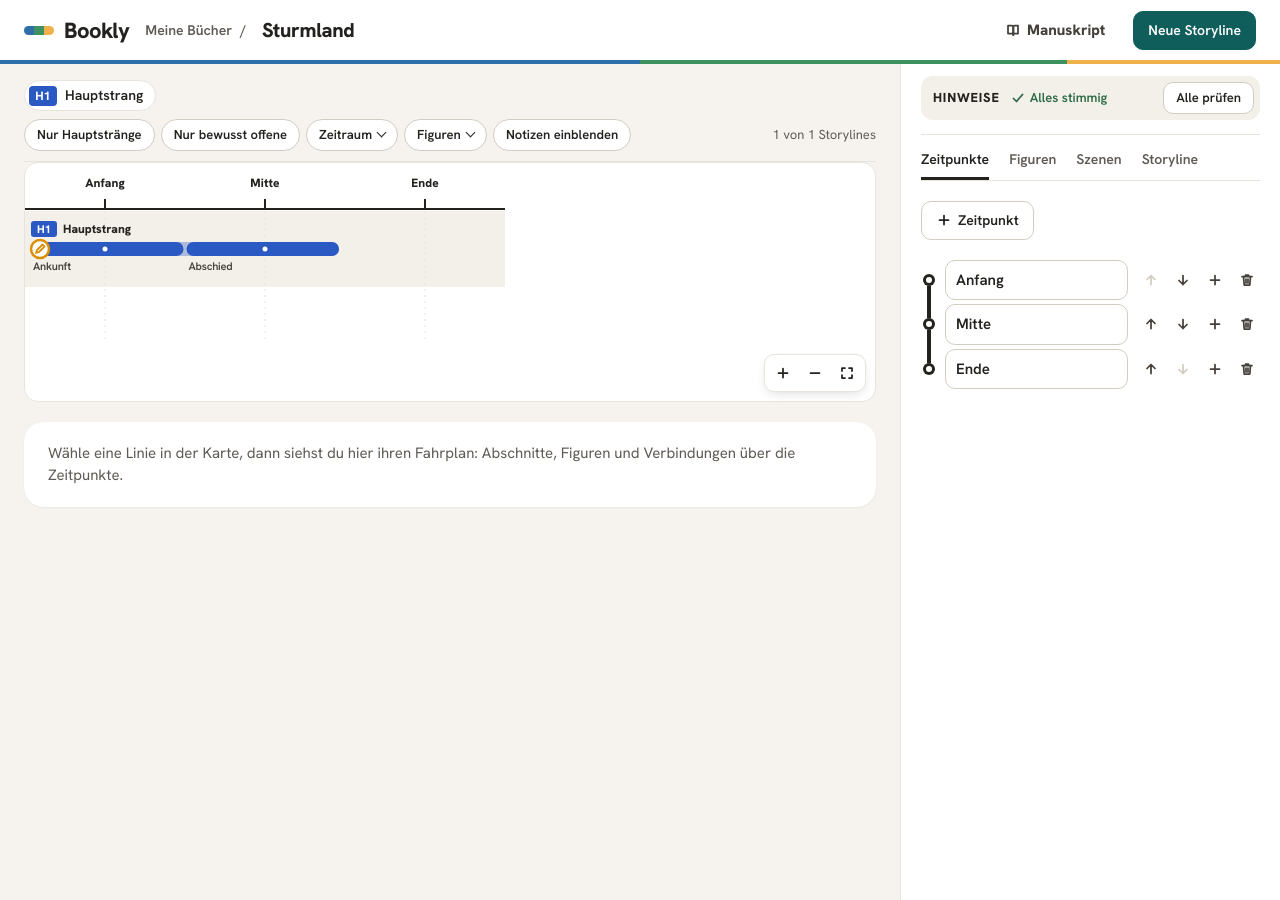
ScenePanel › shows a guiding empty state and creates a scene
Click the tab "Szenen": (1099, 159) [1076,138,1122,180]
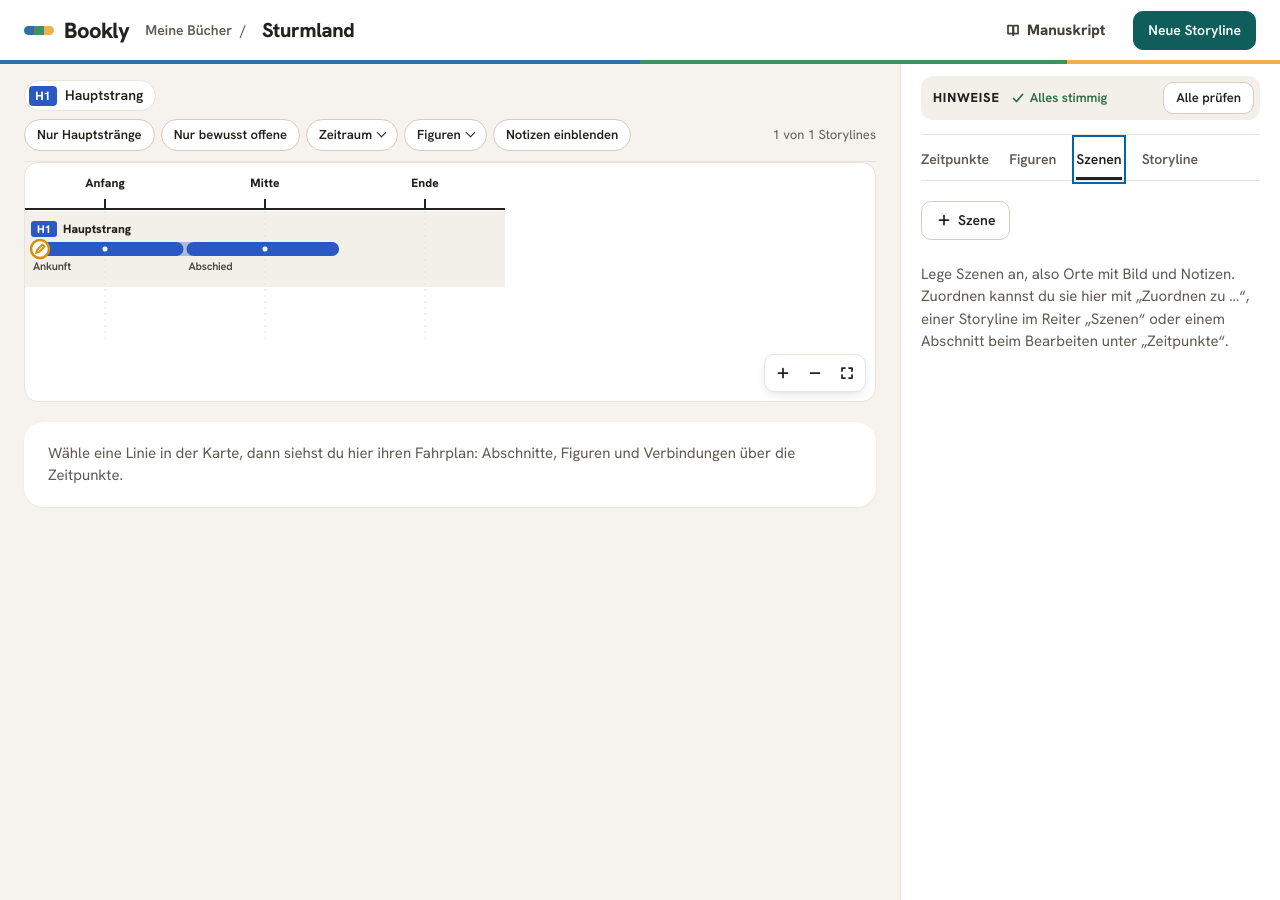
Expected: the text "Lege Szenen an" is shown, [921,264,1250,351]
Click the button "Szene": (966, 220) [921,200,1010,240]
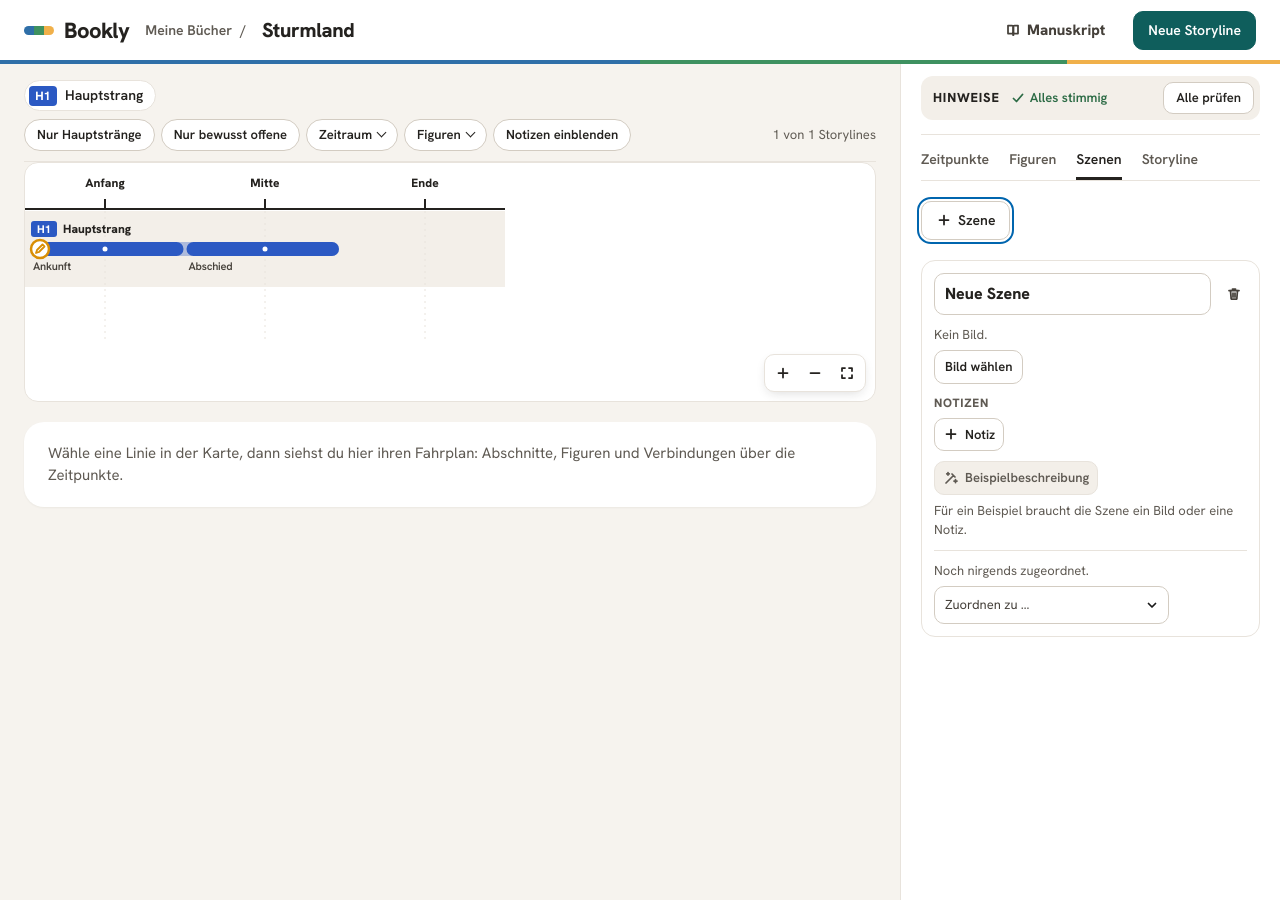
Expected: the field named "Name Szene Neue Szene" is shown, [934,272,1211,314]
